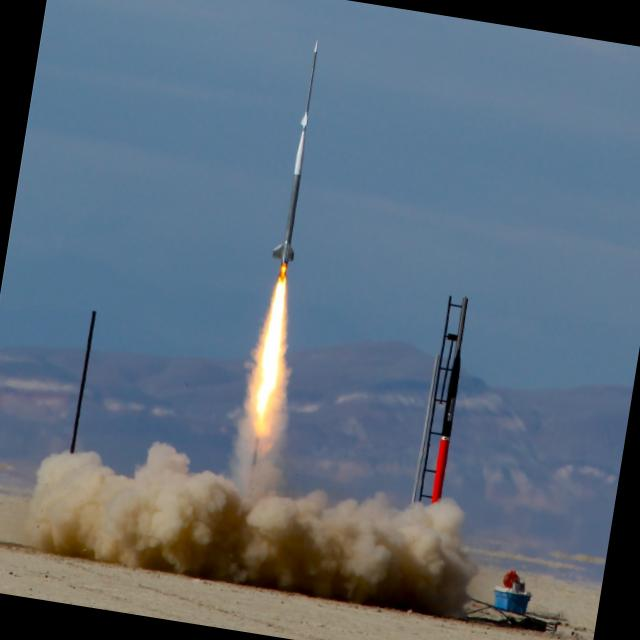rocket: (228, 37, 345, 513)
